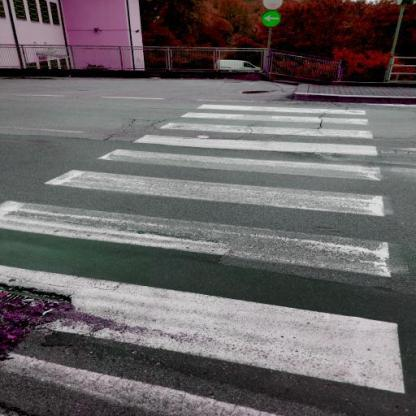crosswalk: (41, 146, 394, 224), (172, 101, 376, 128)
